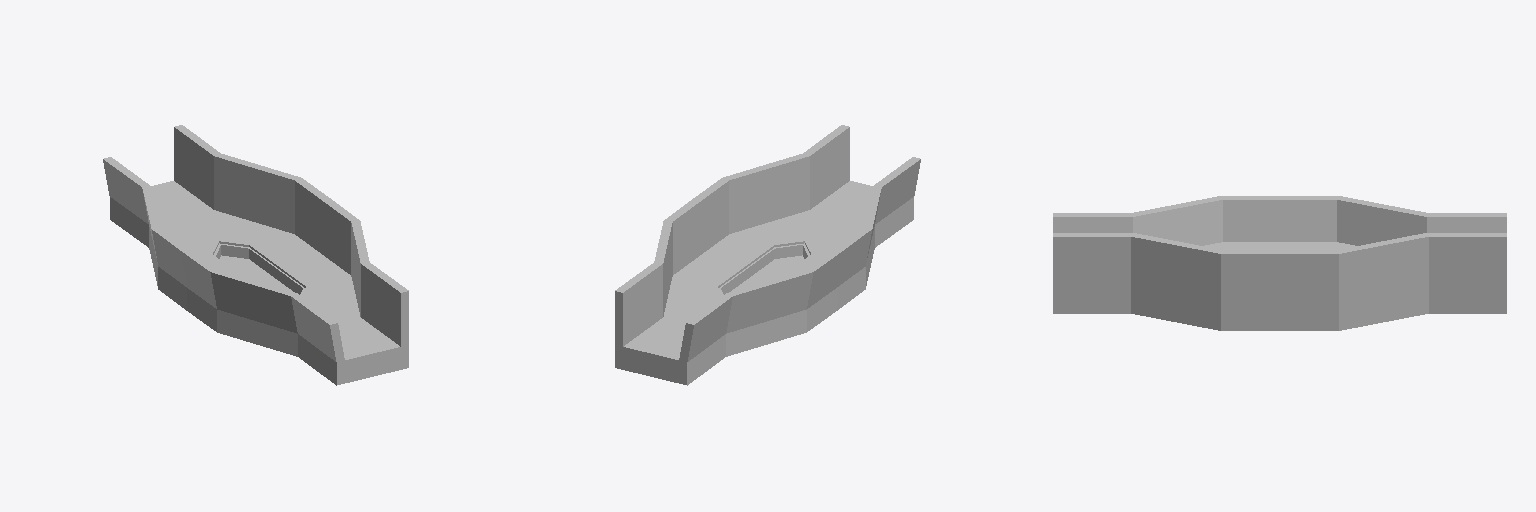
The model's file is HallwayD.obj.
3 renders of one model, left to right at view 1: azimuth 30°, elevation 25°; view 2: azimuth 150°, elevation 25°; view 3: azimuth 270°, elevation 25°, orthographic.
Visible parts, largest first — view 1: pCube1; view 2: pCube1; view 3: pCube1.
Boxes of the visible parts, x1=… form: pCube1: x1=103, y1=125, x2=408, y2=385; pCube1: x1=615, y1=125, x2=920, y2=385; pCube1: x1=1053, y1=196, x2=1506, y2=330.
Size of the model in its own units: 15.6 by 7.62 by 40.68.